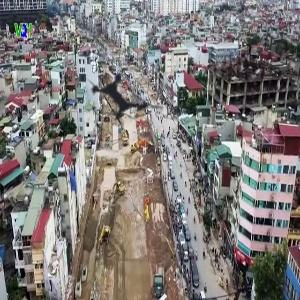drone: (60, 34, 186, 160)
